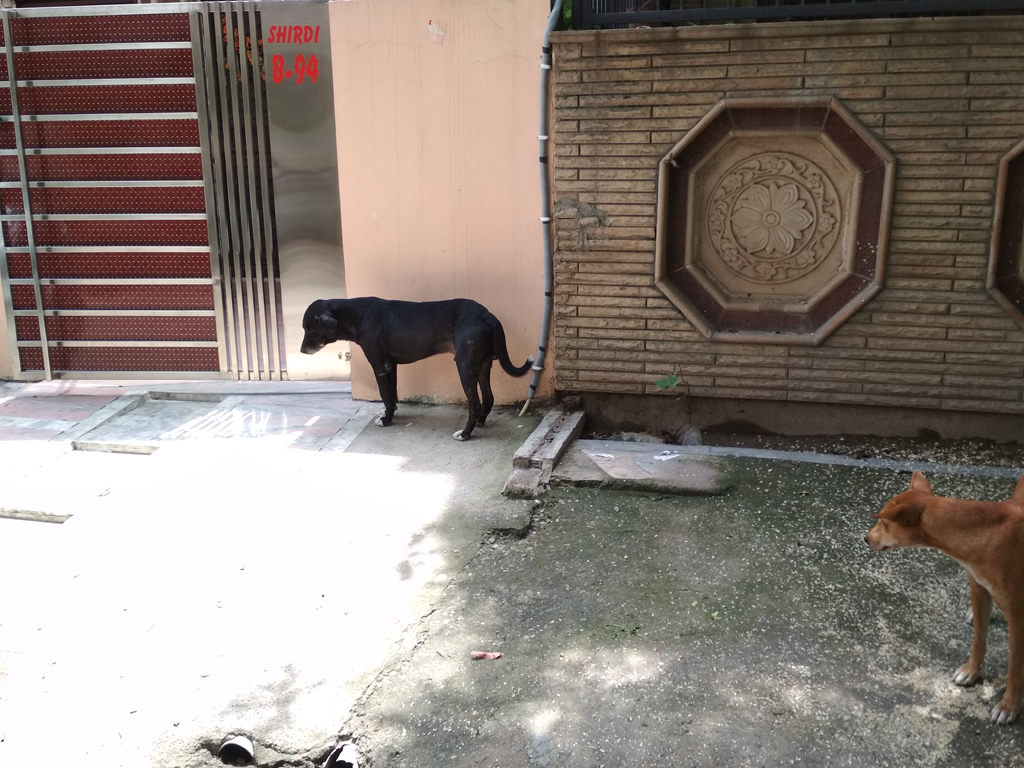dog: (863, 470, 1024, 726), (301, 296, 534, 441)
